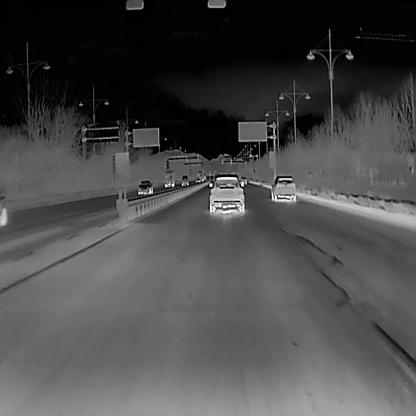car: (207, 174, 245, 214), (270, 174, 295, 201), (137, 179, 152, 194), (180, 174, 187, 185)
truck: (162, 167, 175, 186)
